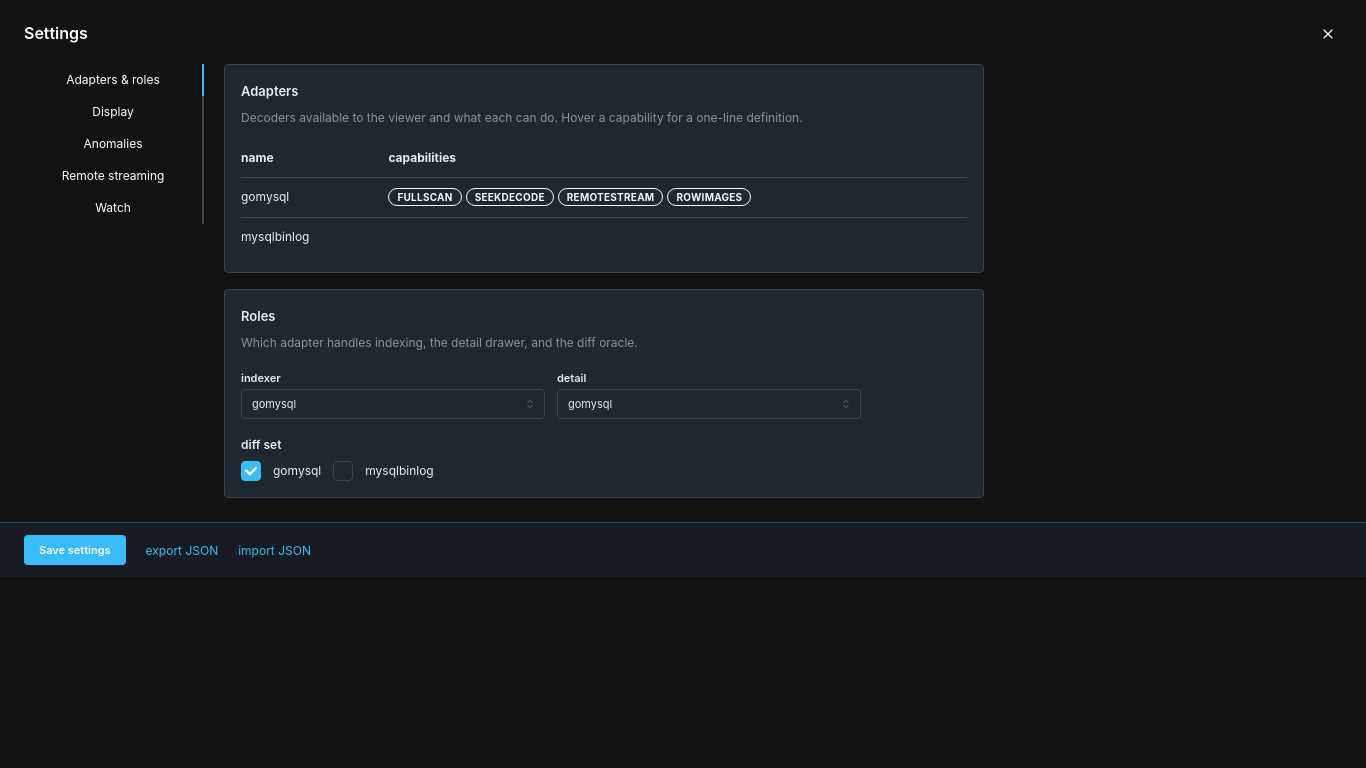
Test: SettingsView › switches to Display tab and shows page size input
What coordinates should you click on to do the following:
click the tab "Display"
I would click on:
 (114, 112)
Its box is [24,96,204,128].
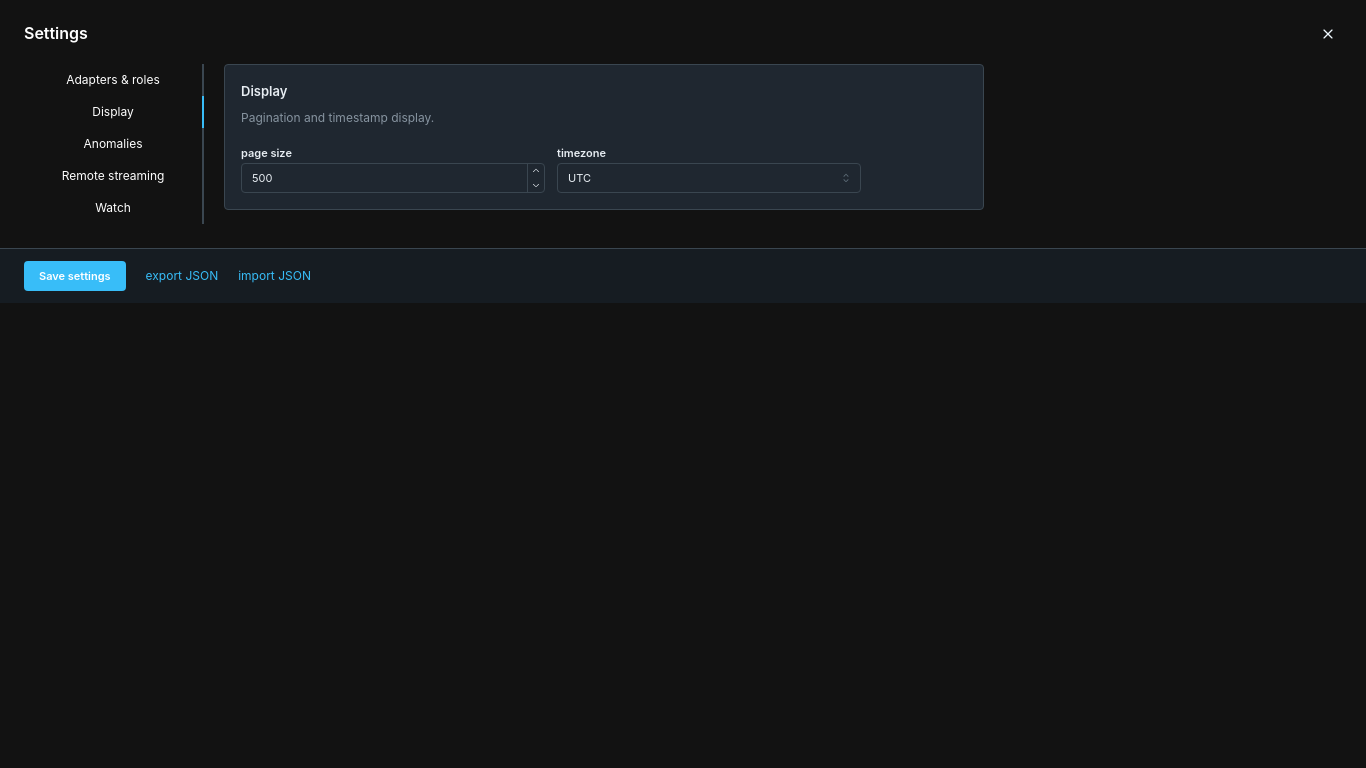
Expected: the field labelled "page size" is shown, [241,163,545,193]
